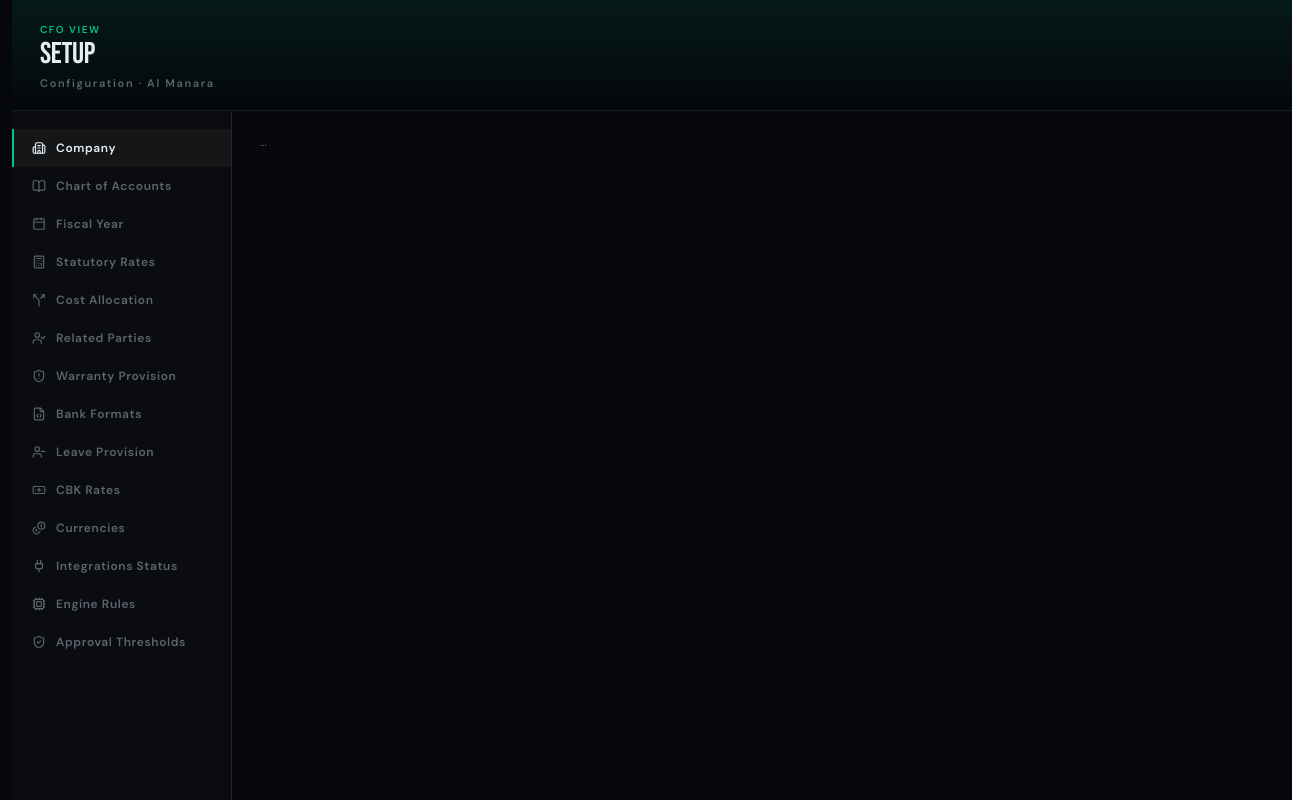
Test: HASEEB-448 — SetupScreen onboarding polish › CoA templates: apply button is disabled (follow-up flag)
The width and height of the screenshot is (1292, 800).
Click the button "Chart of Accounts" at [122, 186], box [12,166,231,204]
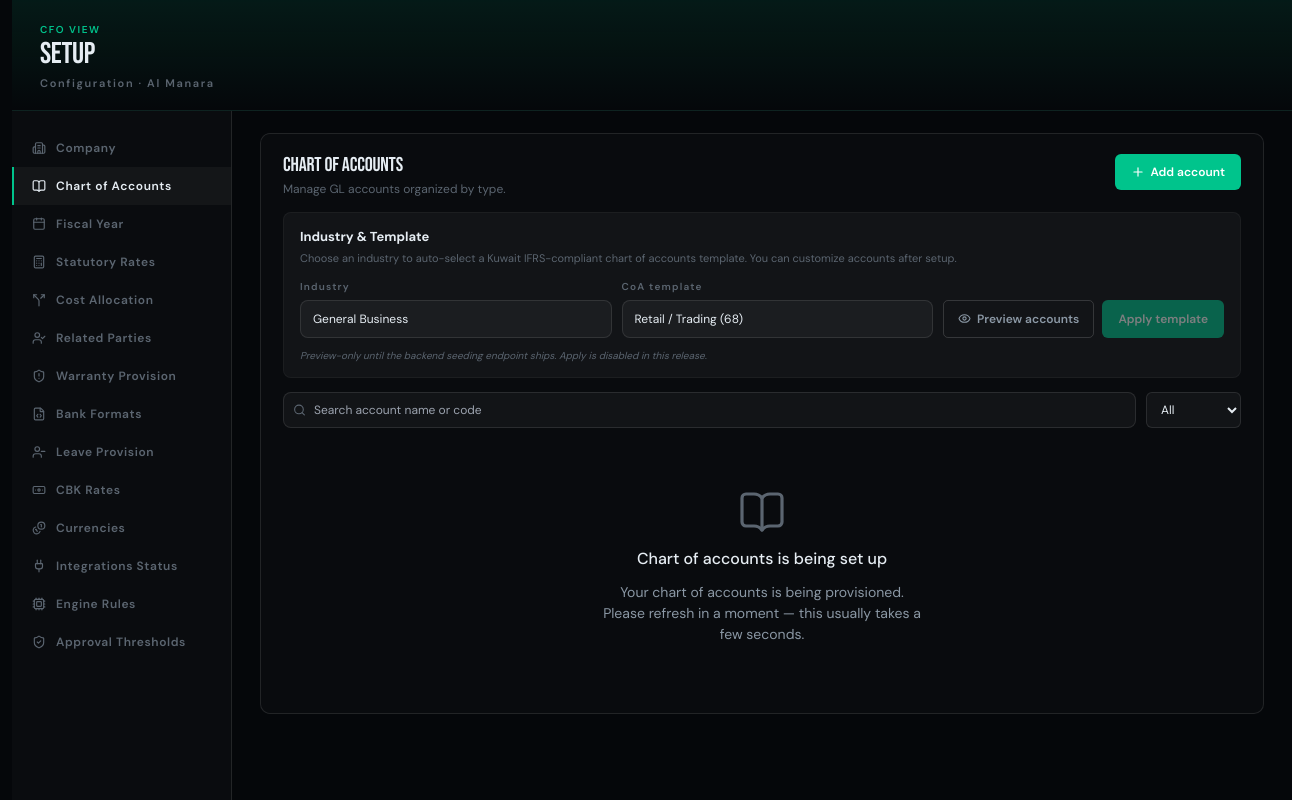
Check: the button with test id "coa-apply-button" is disabled, box [1102,300,1224,338]
